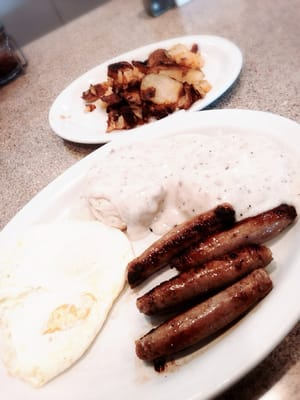burger: (134, 268, 273, 364), (126, 201, 236, 288)
curry: (0, 3, 299, 400)
